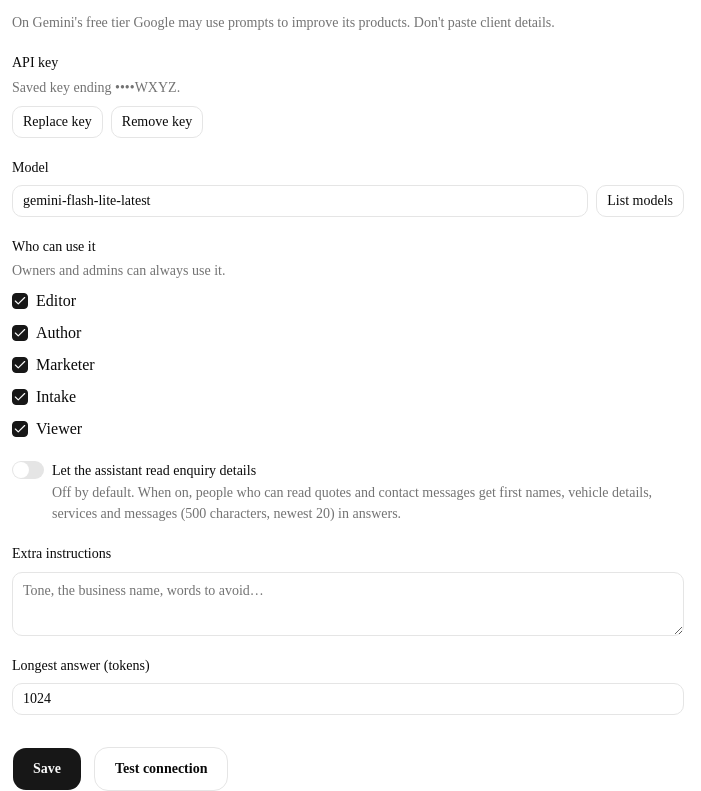
Test: SettingsView › shows a rate-limited Test connection as an error
(page scrolled)
Click the button "Test connection": (161, 769) [94,747,228,790]
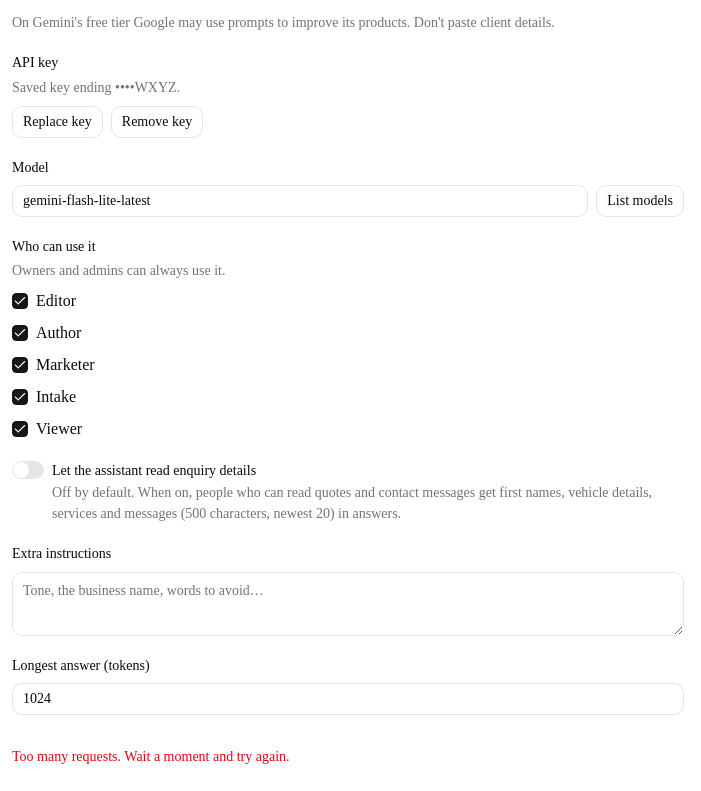
Expected: the message reads "Too many requests. Wait a moment and try again.", [12,749,290,764]
